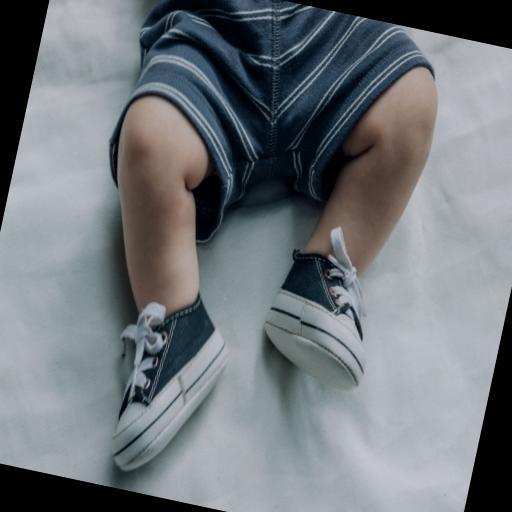shoe: (111, 295, 227, 470), (264, 228, 365, 390)
